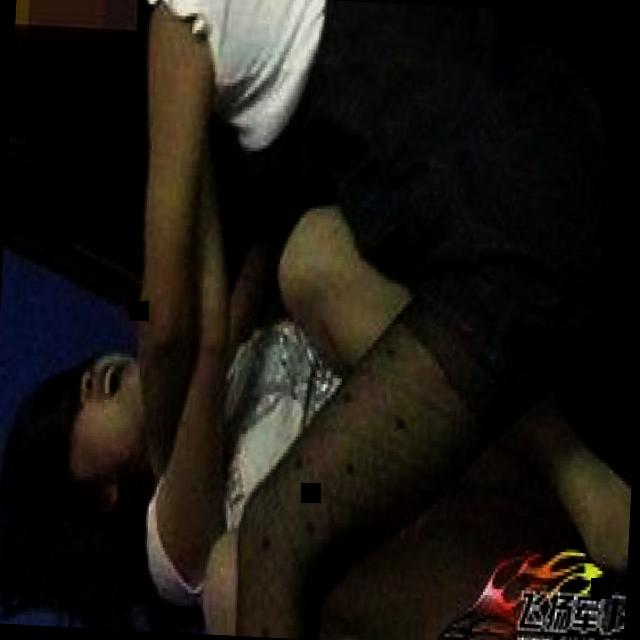Fall-Detected: (27, 0, 638, 640)
